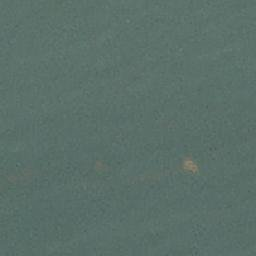debris: (182, 159, 198, 176)
